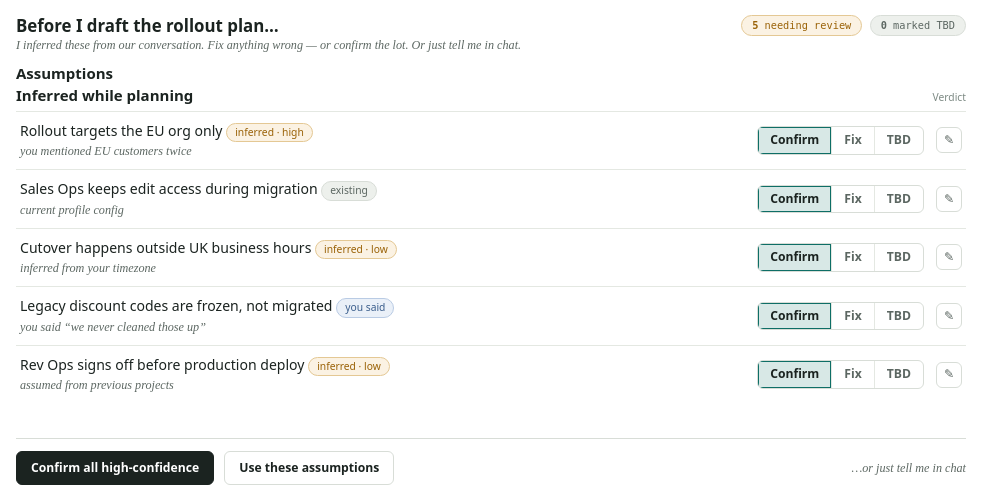
Test case: bulk affirm (§5.1) › does what its label says: everything except low-confidence inferences
Click the button "Confirm all high-confidence" at (115, 468), box [16,451,214,485]
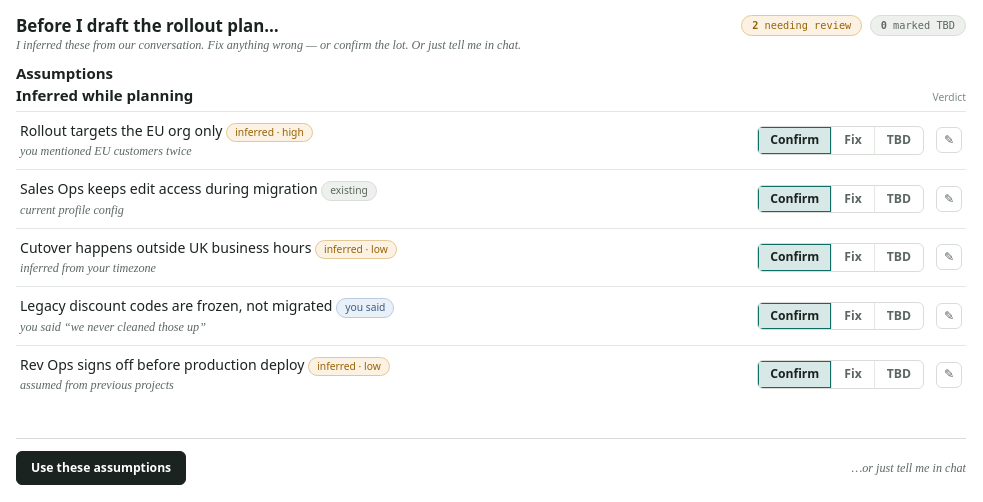
Check: the element labelled "2 needing review" is shown, box [741,15,862,36]
